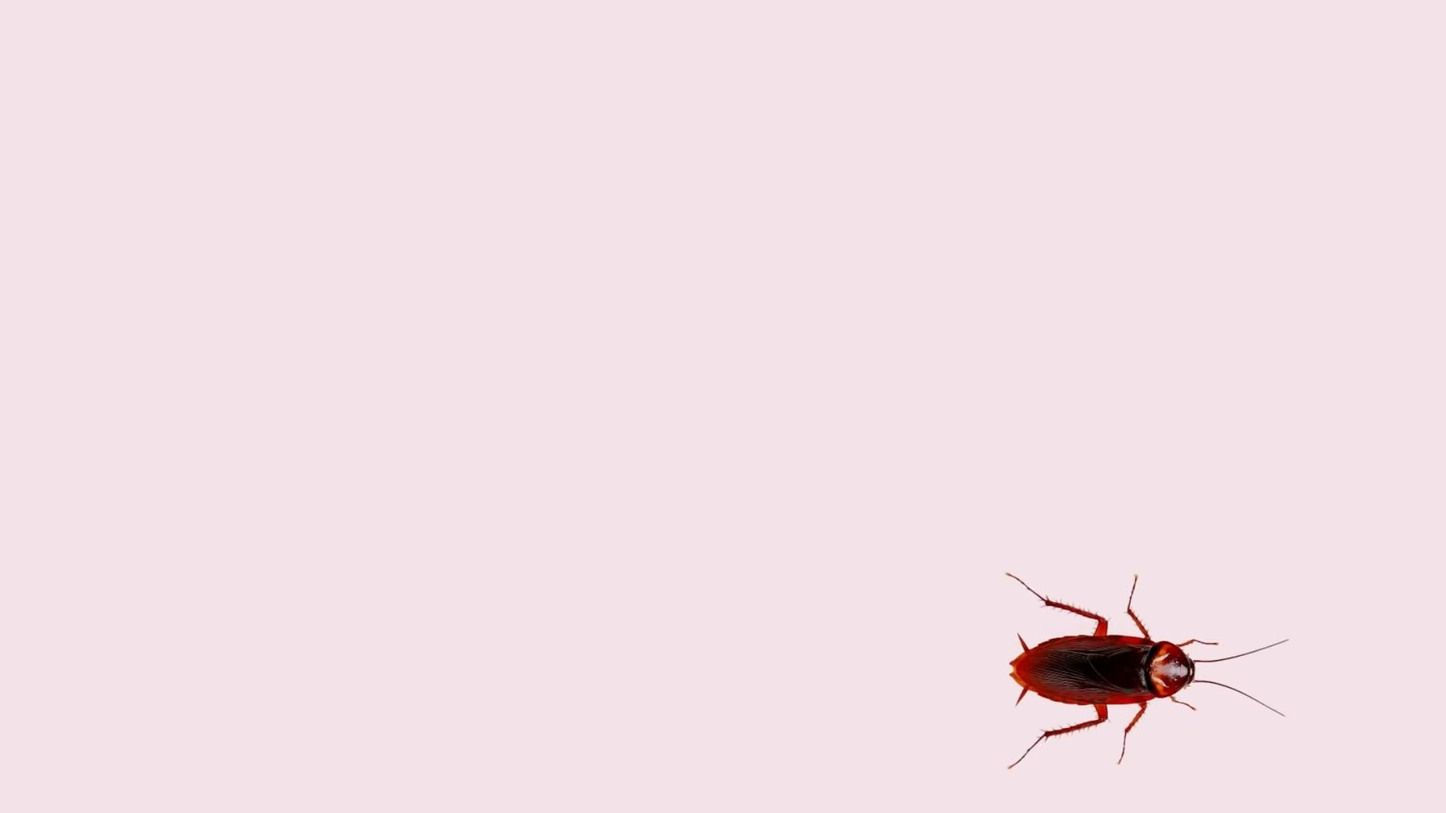cockroach: (1002, 571, 1219, 767)
